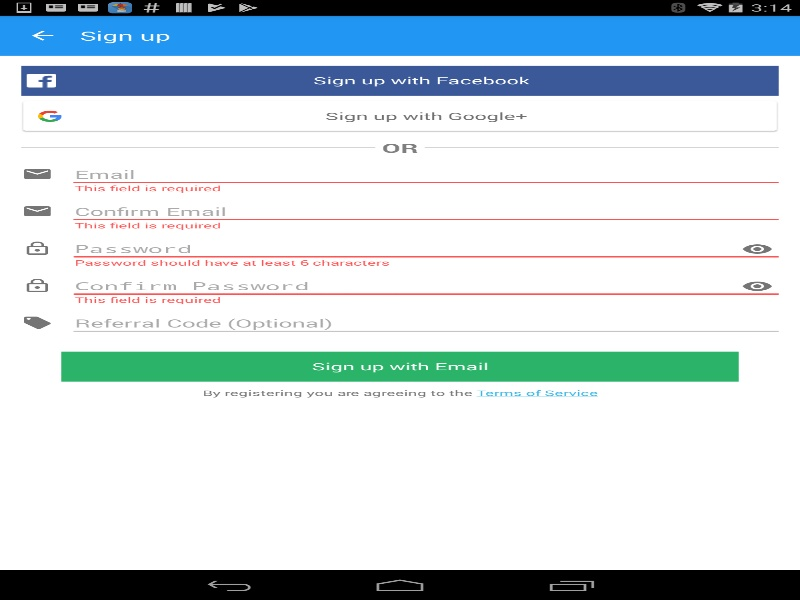Button: (18, 98, 782, 133), (21, 65, 778, 95), (61, 351, 738, 381), (0, 18, 74, 53)
Input: (21, 166, 778, 183), (21, 203, 778, 220), (21, 240, 778, 257), (21, 278, 778, 294), (21, 315, 778, 331)
